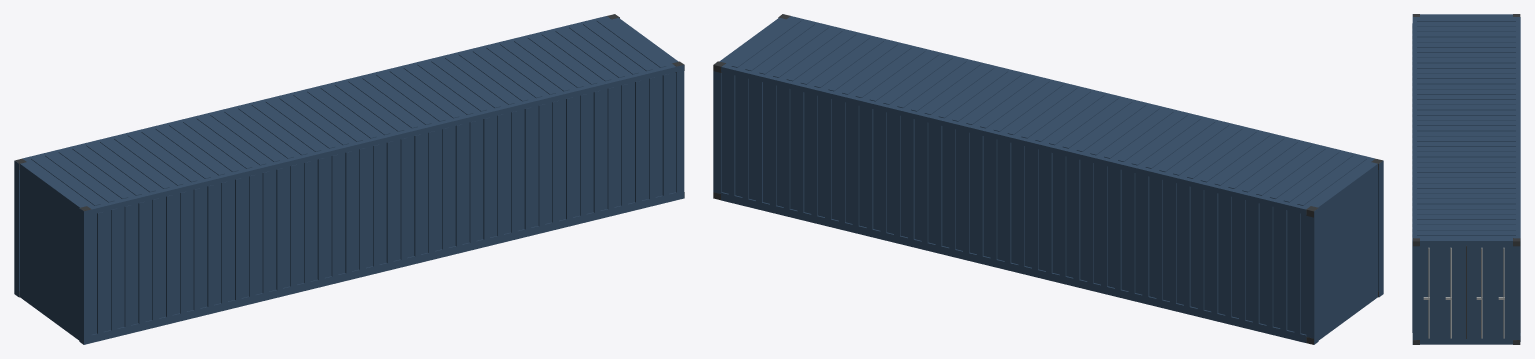
The model's file is prop_container_40_blue.glb.
3 views of the same model, side by side, from view 1: azimuth 30°, elevation 25°; view 2: azimuth 150°, elevation 25°; view 3: azimuth 270°, elevation 25° (orthographic). The views are drawn at different scales.
Visible parts, largest first — view 1: Container; view 2: Container; view 3: Container.
Part boxes in pixels (box(x1,y1,x2,y2)): Container: box(14, 14, 684, 344); Container: box(713, 14, 1383, 344); Container: box(1412, 14, 1520, 344).
Size of the model in its own units: 12.24 by 2.6 by 2.46.
